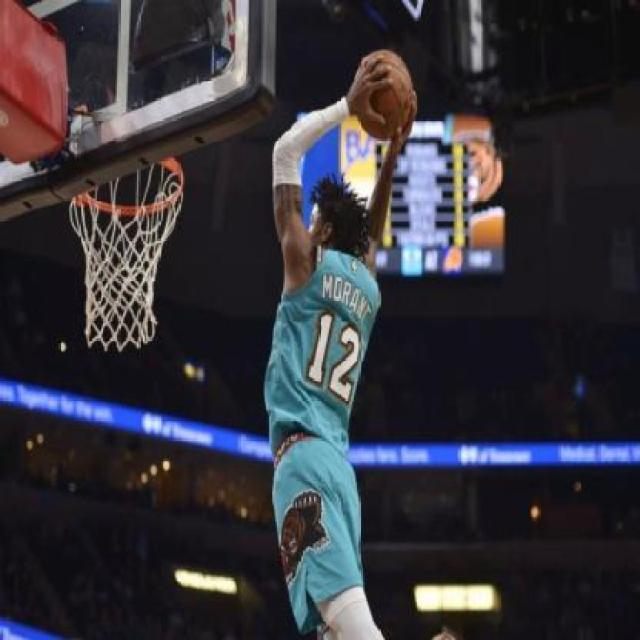basketball: (355, 48, 413, 140)
rim: (69, 155, 183, 351)
